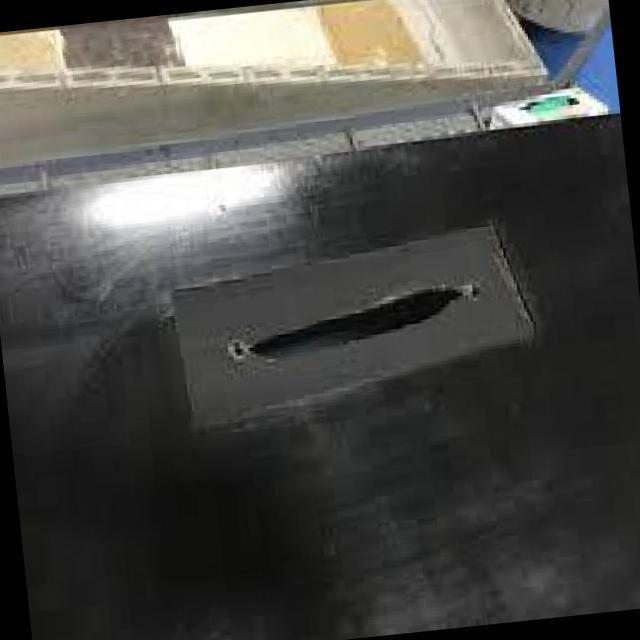Hole: (246, 282, 463, 362)
